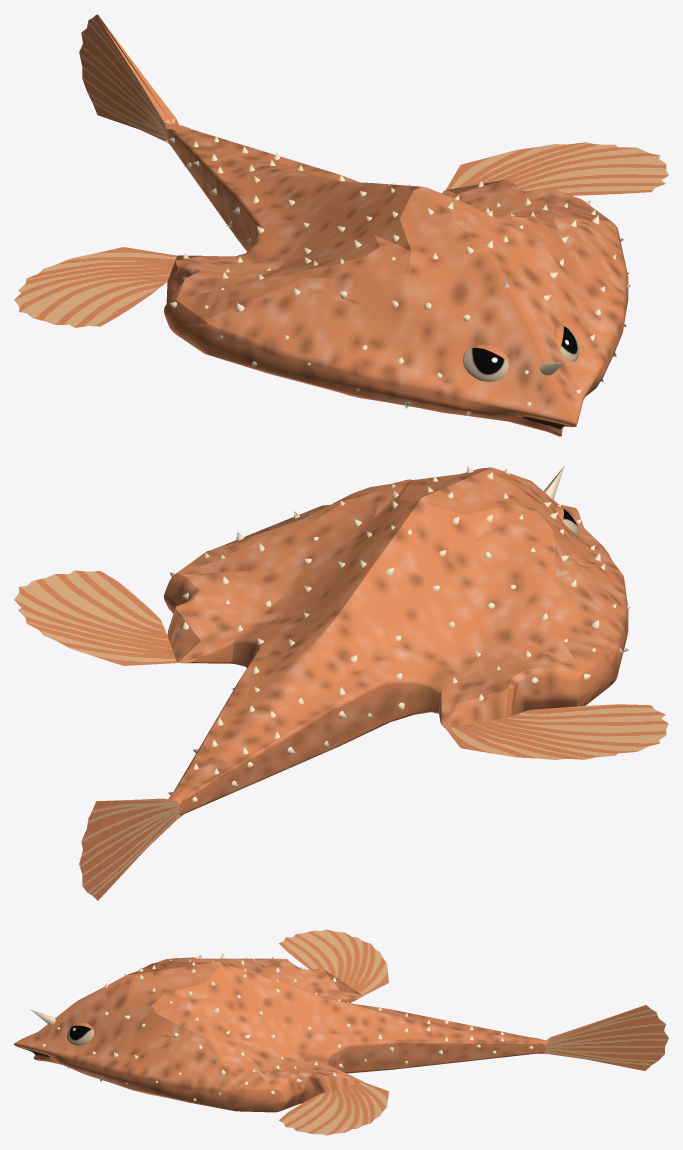
Rendered from Ring Triangular Batfish.glb.
3 views of the same model, one above another, from view 1: azimuth 30°, elevation 25°; view 2: azimuth 150°, elevation 25°; view 3: azimuth 270°, elevation 25° (orthographic). The views are drawn at different scales.
Visible parts, largest first — view 1: Cube; view 2: Cube; view 3: Cube.
Boxes of the visible parts, x1=… form: Cube: x1=14, y1=14, x2=668, y2=436; Cube: x1=14, y1=465, x2=668, y2=900; Cube: x1=14, y1=929, x2=668, y2=1135.
Bounding box in the file's own units: 4.52 × 1.25 × 6.07.
Materials: 1 (1 with a texture image).
